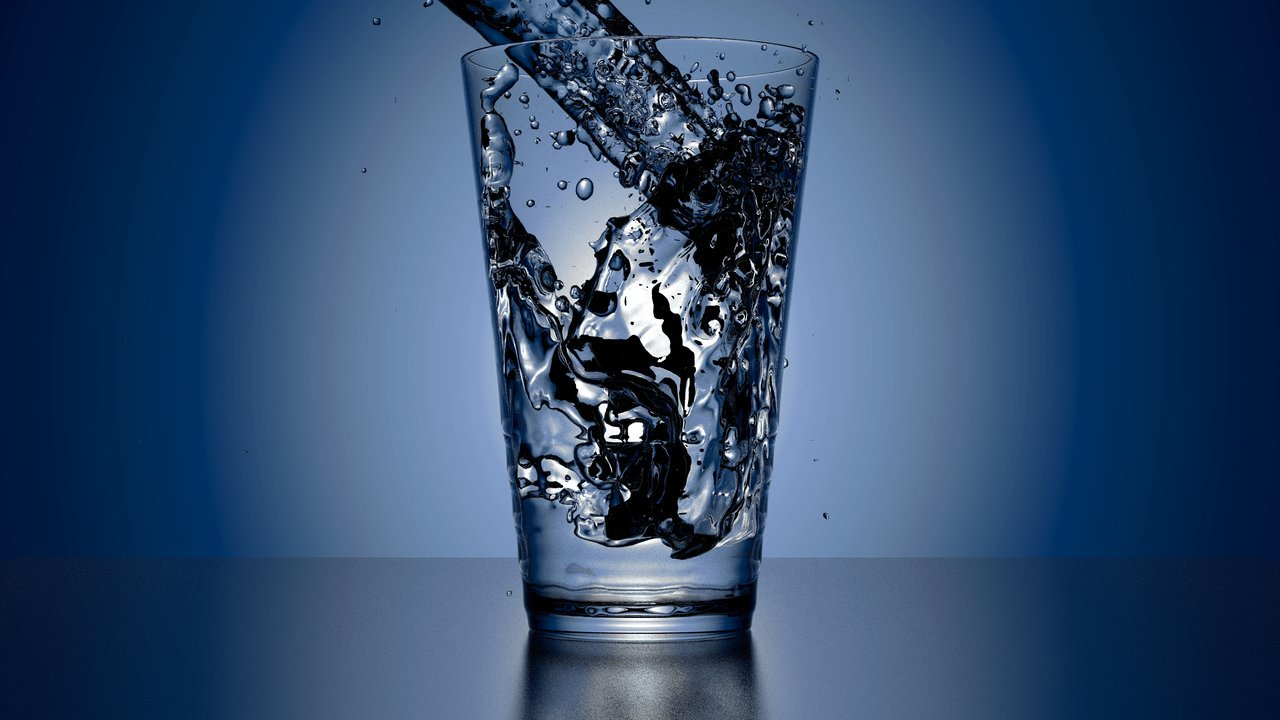glass of water: (488, 46, 778, 614)
